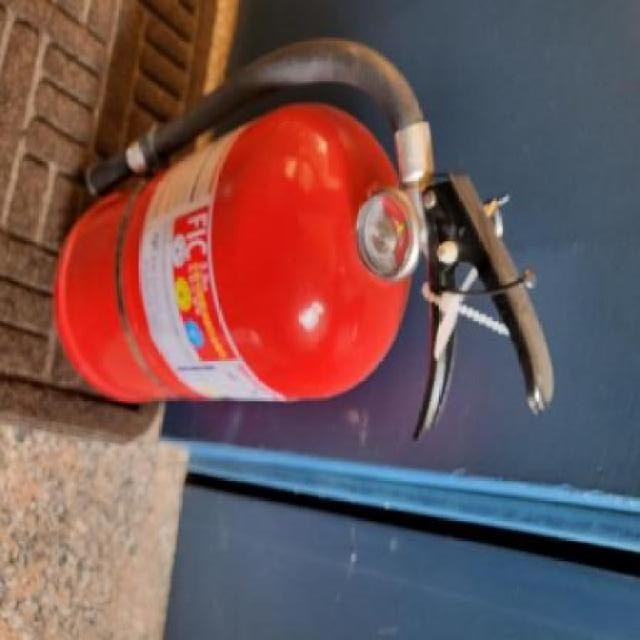fire extinguisher: (51, 35, 554, 443)
